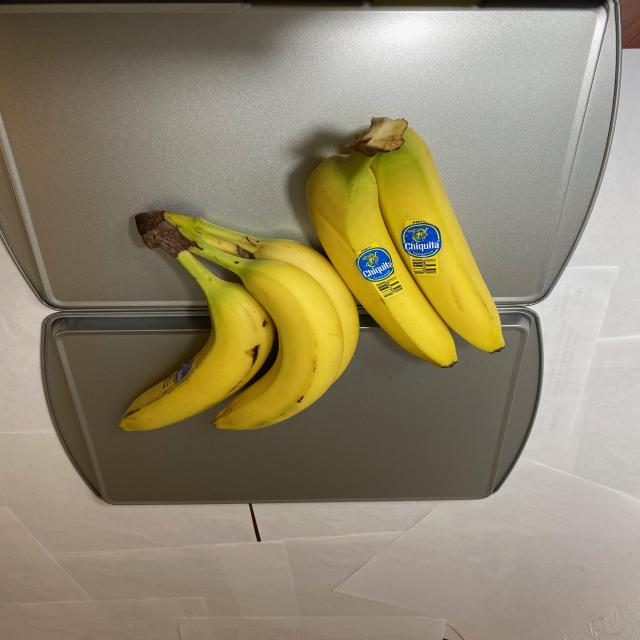banana: (106, 118, 510, 437)
